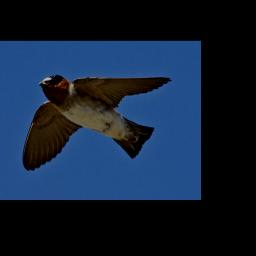Swallow: (20, 75, 173, 172)
